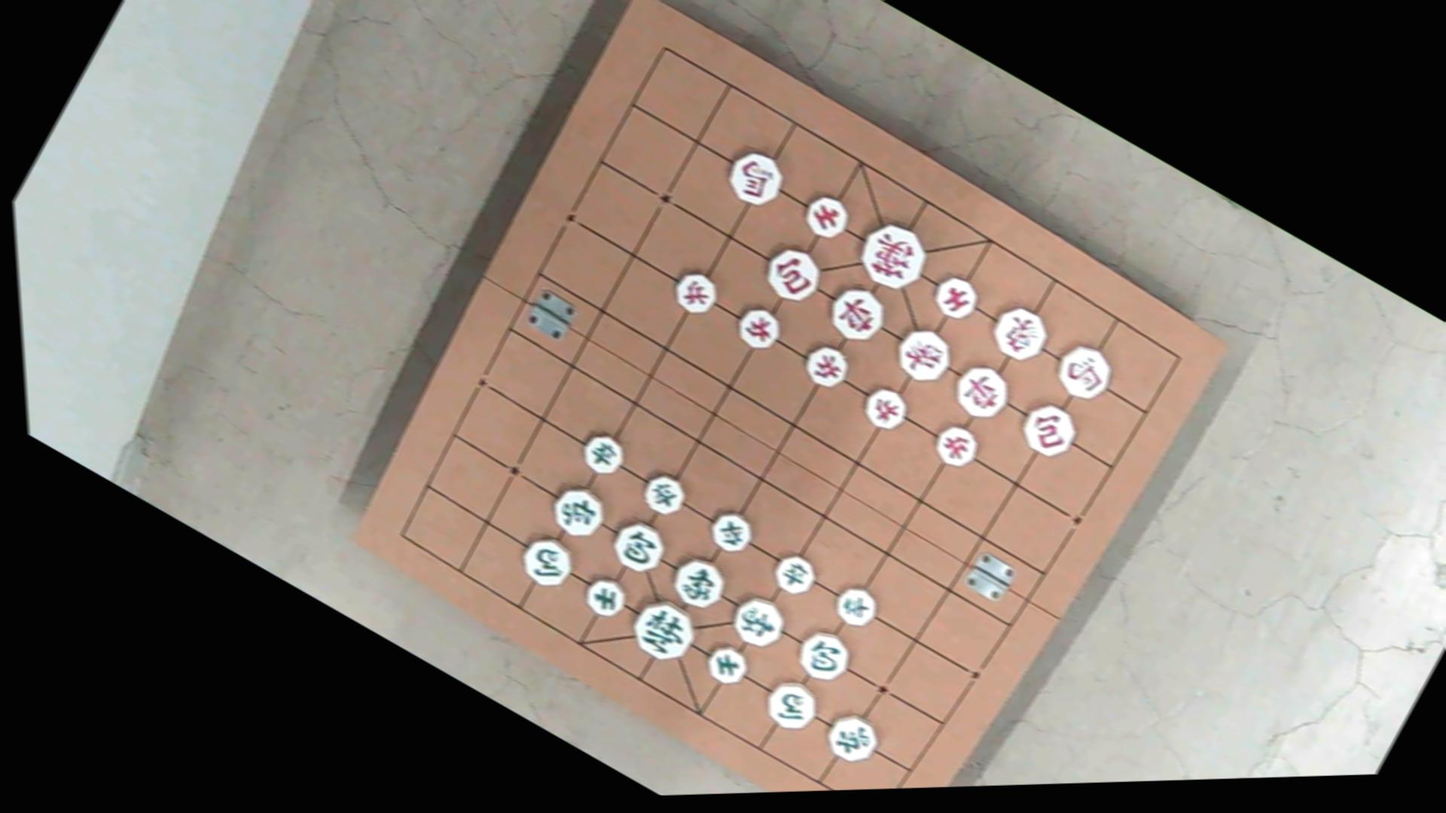cha_green: (541, 475, 614, 544), (818, 705, 886, 769)
cha_red: (819, 277, 894, 349), (944, 355, 1018, 425)
jol_green: (828, 579, 886, 634), (574, 426, 631, 480), (703, 504, 759, 558), (766, 547, 822, 600), (636, 466, 692, 519)
jol_red: (797, 336, 856, 394), (926, 416, 986, 473), (729, 299, 789, 355), (666, 263, 725, 319), (856, 380, 914, 436)
ma_green: (511, 527, 582, 594), (756, 671, 826, 737)
ma_red: (1046, 336, 1121, 407), (718, 142, 792, 213)
po_green: (601, 511, 675, 580), (789, 622, 860, 690)
po_red: (755, 237, 830, 309), (1011, 394, 1084, 464)
sa_green: (576, 569, 634, 623), (699, 638, 755, 690)
sa_red: (797, 187, 857, 245), (926, 269, 984, 324)
sang_green: (662, 547, 736, 617), (722, 587, 795, 655)
sang_red: (983, 297, 1057, 368), (887, 319, 960, 389)
wang_green: (621, 590, 706, 670)
wang_red: (847, 212, 938, 299)
